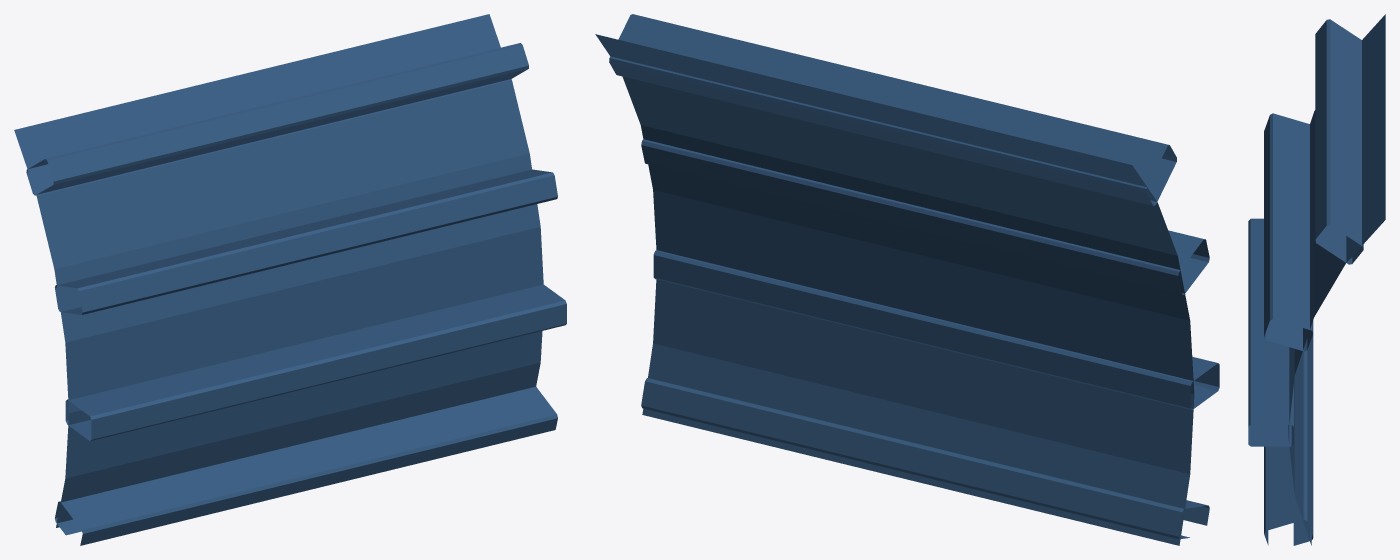
The model's file is cell_40.obj.
3 renders of one model, left to right at view 1: azimuth 30°, elevation 25°; view 2: azimuth 150°, elevation 25°; view 3: azimuth 270°, elevation 25°, orthographic. The views are drawn at different scales.
Bounding box in the file's own units: 1 × 0.7389 × 0.2819.
